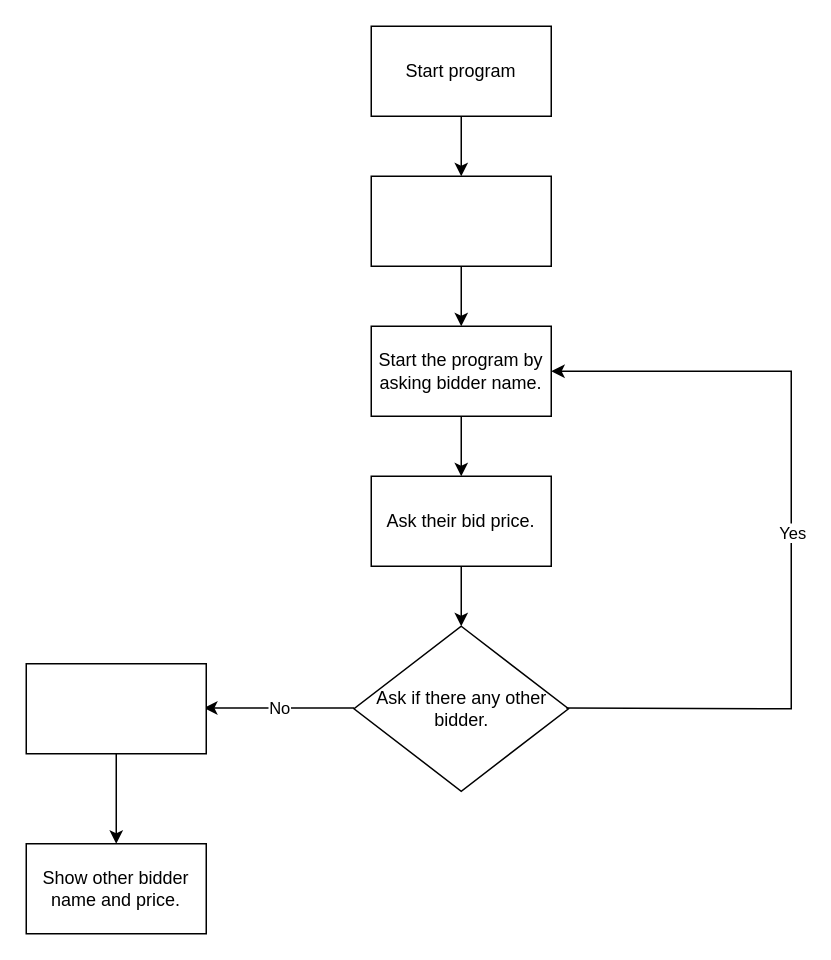
Some shapes in this 831 by 960 pixel diagram are drawn without their labels. The centre of each missing label's shape, as x and y in pixels:
ASCII art and welcome message.: the point at 460,220
Show the winner.: the point at 115,708
